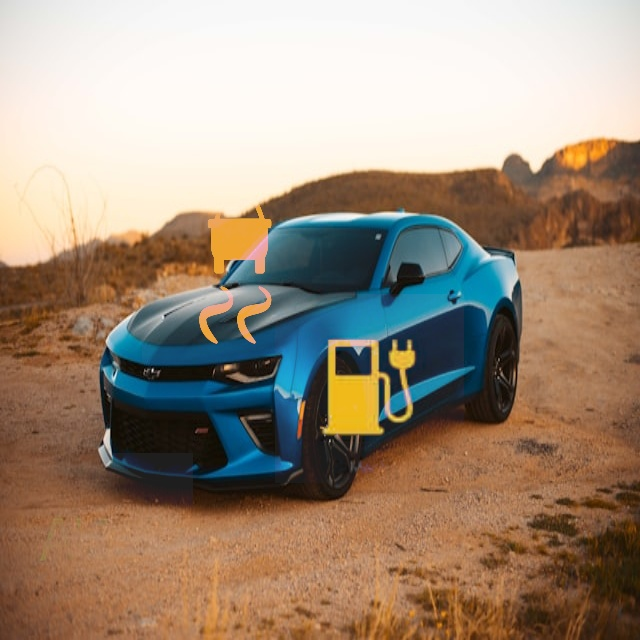symbol: (142, 174, 333, 365), (275, 294, 464, 483), (16, 453, 193, 630), (28, 6, 162, 140)
